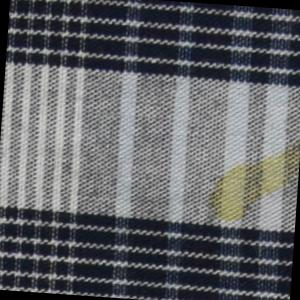Stain: (207, 138, 300, 232)
